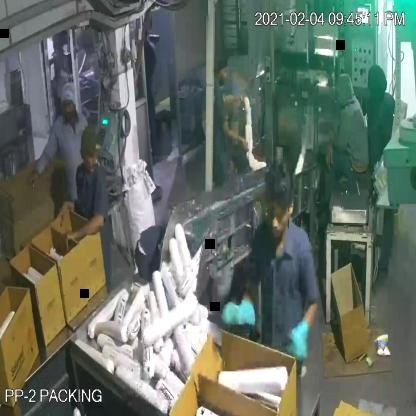glove: (212, 277, 269, 352), (288, 294, 322, 370)
no_glove: (60, 216, 110, 257), (214, 111, 254, 158), (45, 190, 80, 228), (221, 82, 254, 112)
